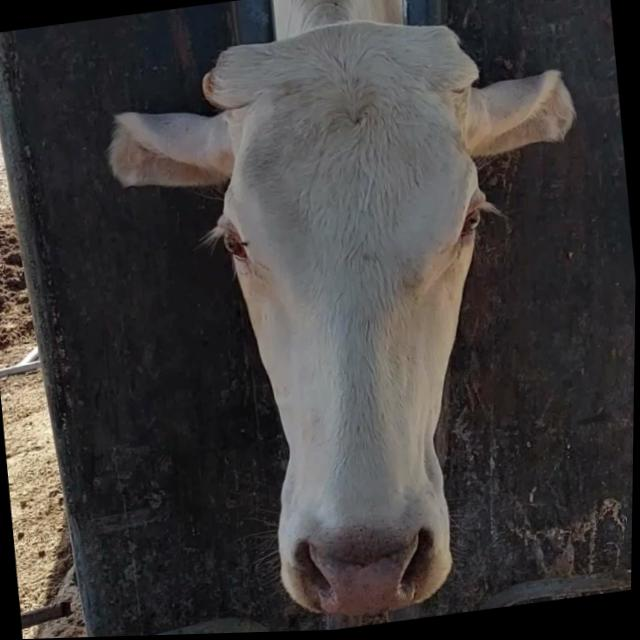cowFace: (199, 18, 526, 628)
